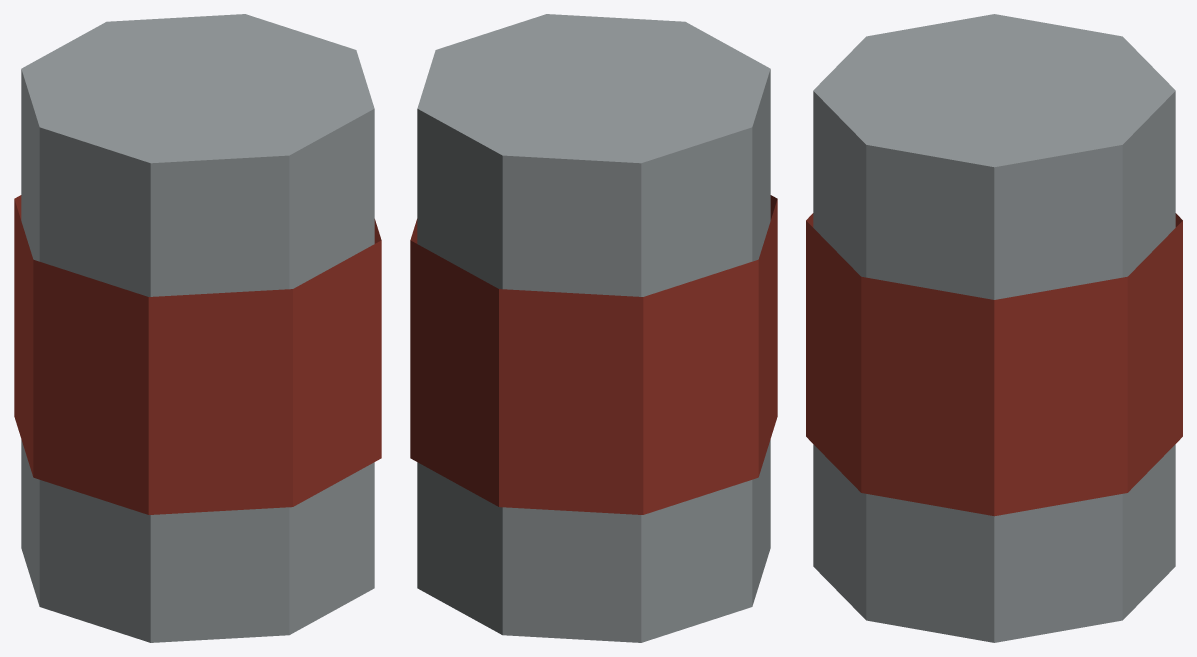
File: SM_TinCan.fbx
3 renders of one model, left to right at view 1: azimuth 30°, elevation 25°; view 2: azimuth 150°, elevation 25°; view 3: azimuth 270°, elevation 25°, orthographic.
Parts seen in each view (by area): view 1: TinCan; view 2: TinCan; view 3: TinCan.
Boxes of the visible parts, x1,y1,x2,y2 form: TinCan: (14, 14, 381, 642); TinCan: (410, 14, 777, 642); TinCan: (806, 14, 1182, 642).
Size of the model in its own units: 7.9 by 7.9 by 11.
